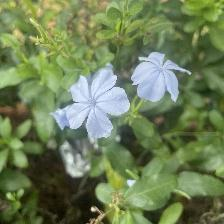chitrak: (68, 69, 133, 138), (134, 51, 192, 103)
